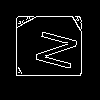N: (25, 25, 79, 73)
